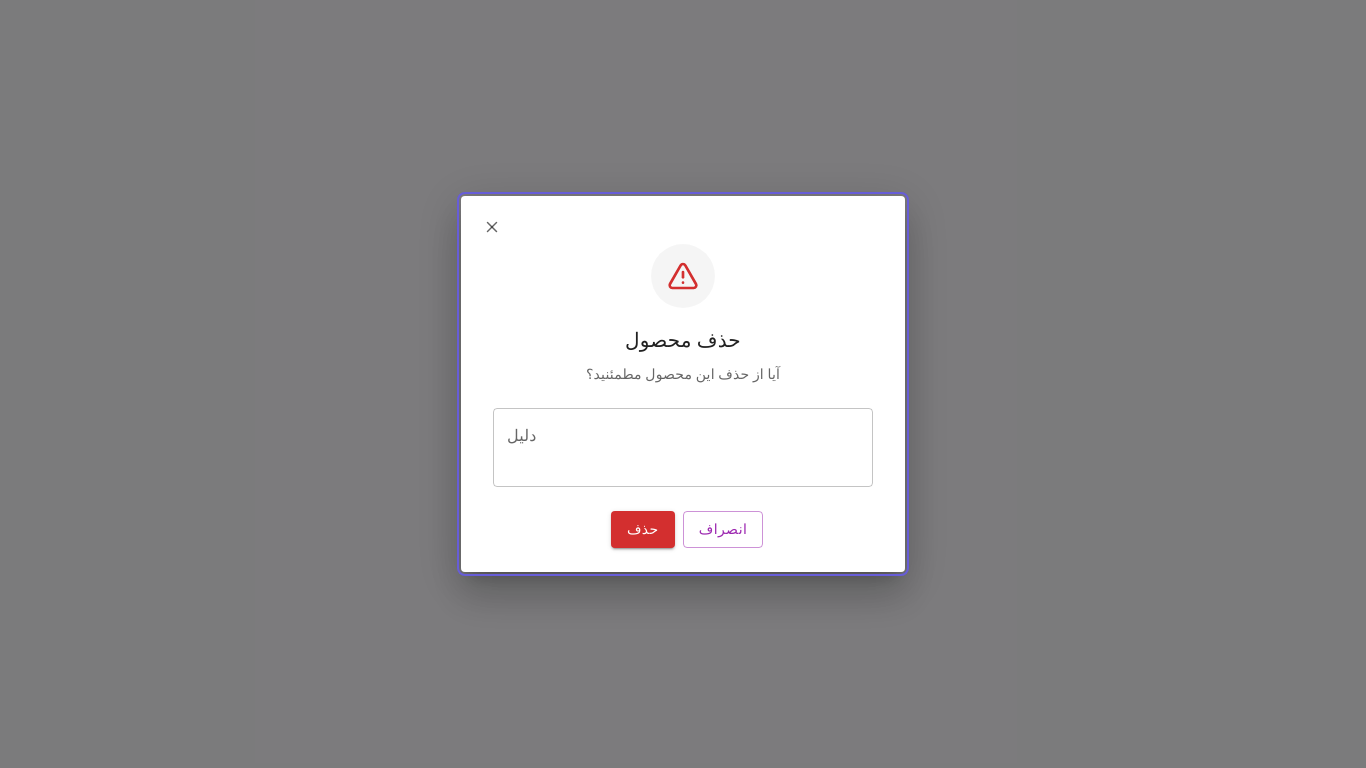
Test: ConfirmationDialog › shows validation error when reason is required but empty
The width and height of the screenshot is (1366, 768).
Click the button "حذف" at {"x": 643, "y": 530}, box [611, 511, 675, 548]
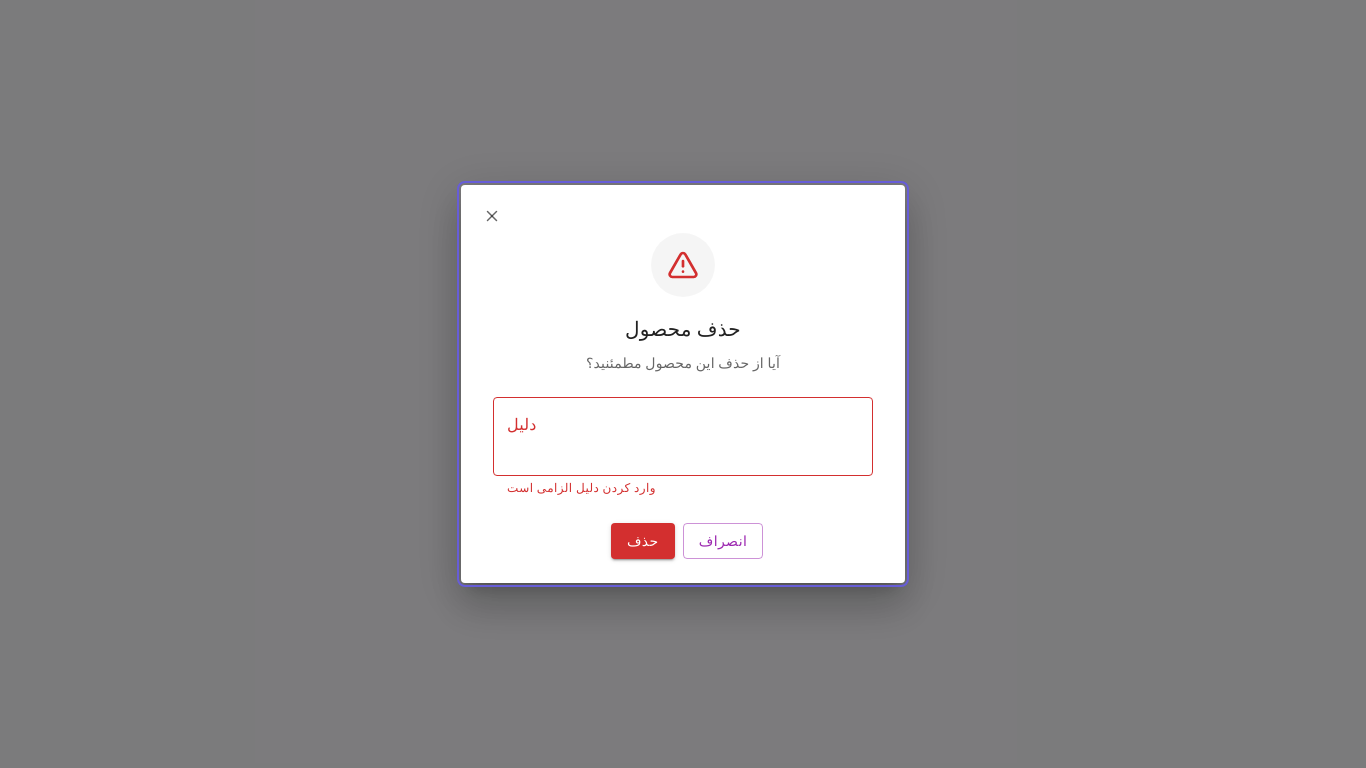
Expected: the text "وارد کردن دلیل الزامی است" is shown, [507, 481, 656, 495]
